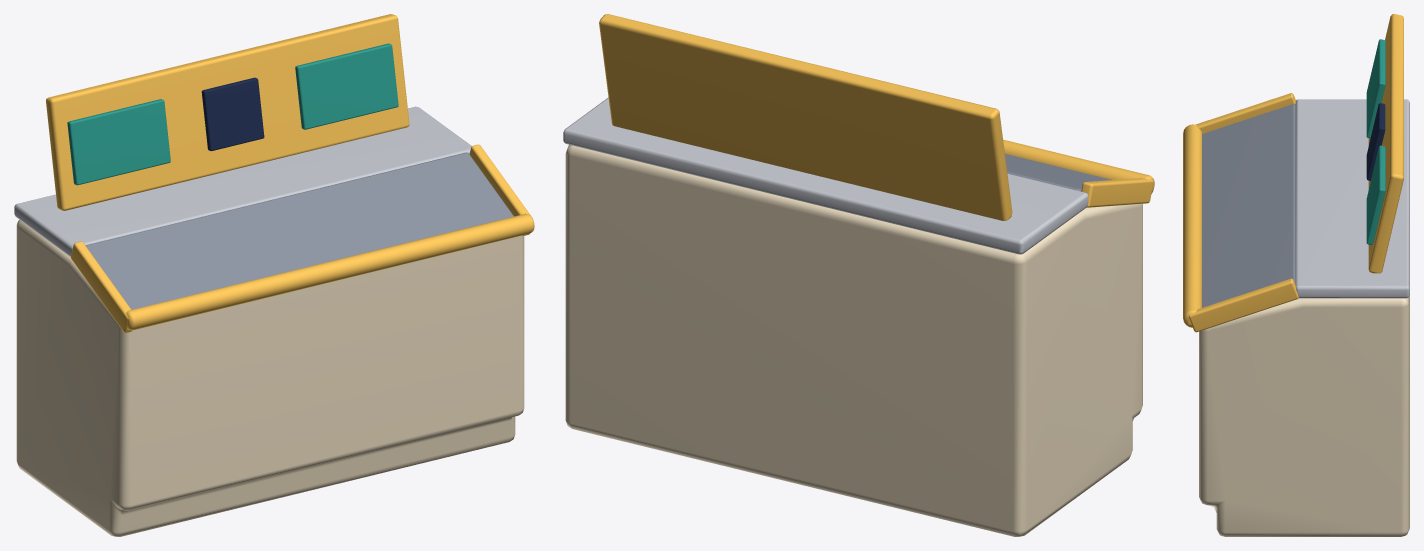
File: Console_CommsPower.glb
The picture shows the model from 3 angles, left to right: view 1: azimuth 30°, elevation 25°; view 2: azimuth 150°, elevation 25°; view 3: azimuth 270°, elevation 25°; orthographic projection. The views are drawn at different scales.
Parts seen in each view (by area): view 1: Console_CommsPower.Body, Console_CommsPower.Panel, Console_CommsPower.Board, Console_CommsPower.Top, Console_CommsPower.Rim, Console_CommsPower.Screen_R, Console_CommsPower.Screen_L, Console_CommsPower.Icon; view 2: Console_CommsPower.Body, Console_CommsPower.Board, Console_CommsPower.Top, Console_CommsPower.Rim, Console_CommsPower.Panel; view 3: Console_CommsPower.Body, Console_CommsPower.Top, Console_CommsPower.Panel, Console_CommsPower.Rim, Console_CommsPower.Board, Console_CommsPower.Screen_R, Console_CommsPower.Screen_L, Console_CommsPower.Icon.
Part boxes in pixels (x1,y1,x2,y2): Console_CommsPower.Body: (16,220,524,536); Console_CommsPower.Panel: (85,152,513,309); Console_CommsPower.Board: (46,14,409,210); Console_CommsPower.Top: (14,106,471,256); Console_CommsPower.Rim: (71,144,534,332); Console_CommsPower.Screen_R: (295,43,398,129); Console_CommsPower.Screen_L: (67,99,170,185); Console_CommsPower.Icon: (201,77,264,151); Console_CommsPower.Body: (565,144,1142,536); Console_CommsPower.Board: (599,14,1012,220); Console_CommsPower.Top: (563,97,1088,254); Console_CommsPower.Rim: (1003,139,1154,207); Console_CommsPower.Panel: (1005,154,1111,191); Console_CommsPower.Body: (1199,295,1409,536); Console_CommsPower.Top: (1295,99,1409,298); Console_CommsPower.Panel: (1202,104,1295,307); Console_CommsPower.Rim: (1183,93,1298,332); Console_CommsPower.Board: (1368,14,1403,273); Console_CommsPower.Screen_R: (1366,145,1385,244); Console_CommsPower.Screen_L: (1366,39,1385,138); Console_CommsPower.Icon: (1366,103,1385,180).
Bounding box in the file's own units: 1.29 × 1.11 × 0.6485.
1 material, 1 textured.
